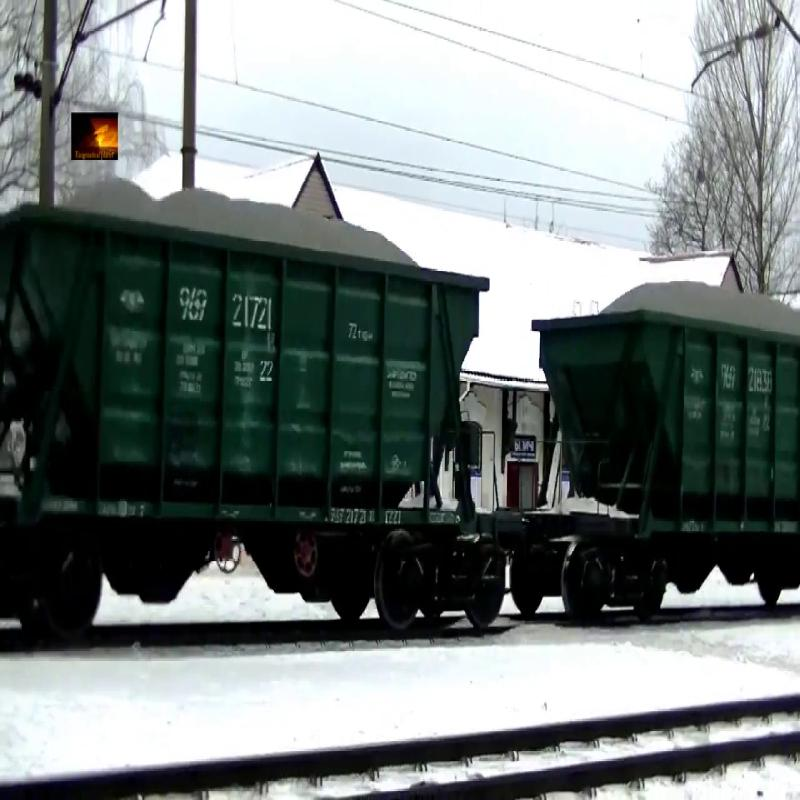train: (1, 169, 507, 628), (529, 293, 800, 619)
